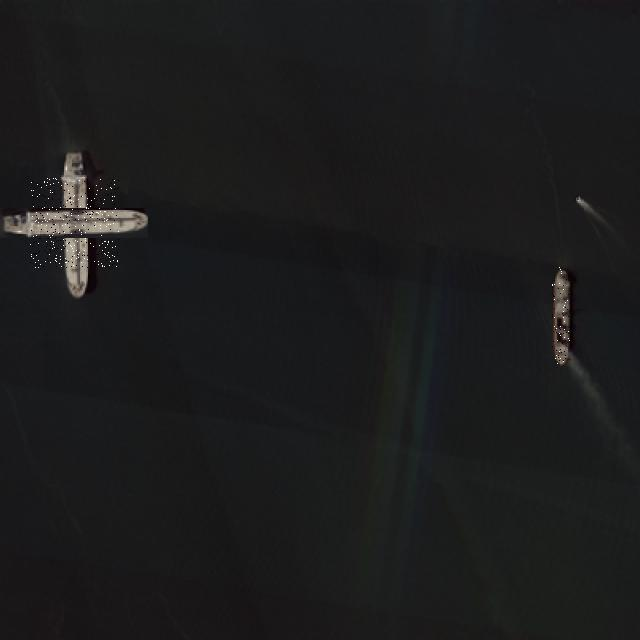boat: (30, 178, 119, 268), (552, 267, 570, 364), (576, 195, 580, 200)
